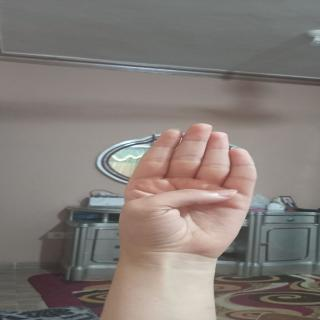KAAF: (108, 117, 272, 255)
